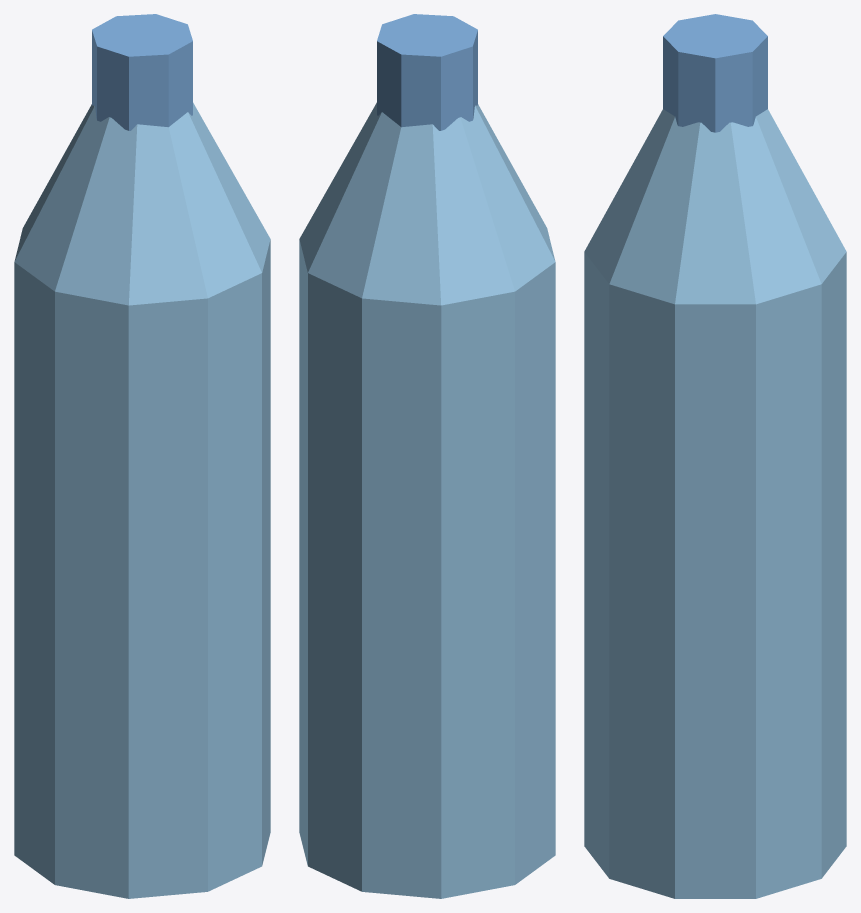
Rendered from garrafa_agua.glb.
The picture shows the model from 3 angles, left to right: view 1: azimuth 30°, elevation 25°; view 2: azimuth 150°, elevation 25°; view 3: azimuth 270°, elevation 25°; orthographic projection.
Visible parts, largest first — view 1: garrafa_agua; view 2: garrafa_agua; view 3: garrafa_agua.
Boxes of the visible parts, x1=… form: garrafa_agua: x1=14, y1=14, x2=270, y2=898; garrafa_agua: x1=299, y1=14, x2=555, y2=898; garrafa_agua: x1=584, y1=14, x2=846, y2=898.
Bounding box in the file's own units: 0.0761 × 0.2725 × 0.08.
